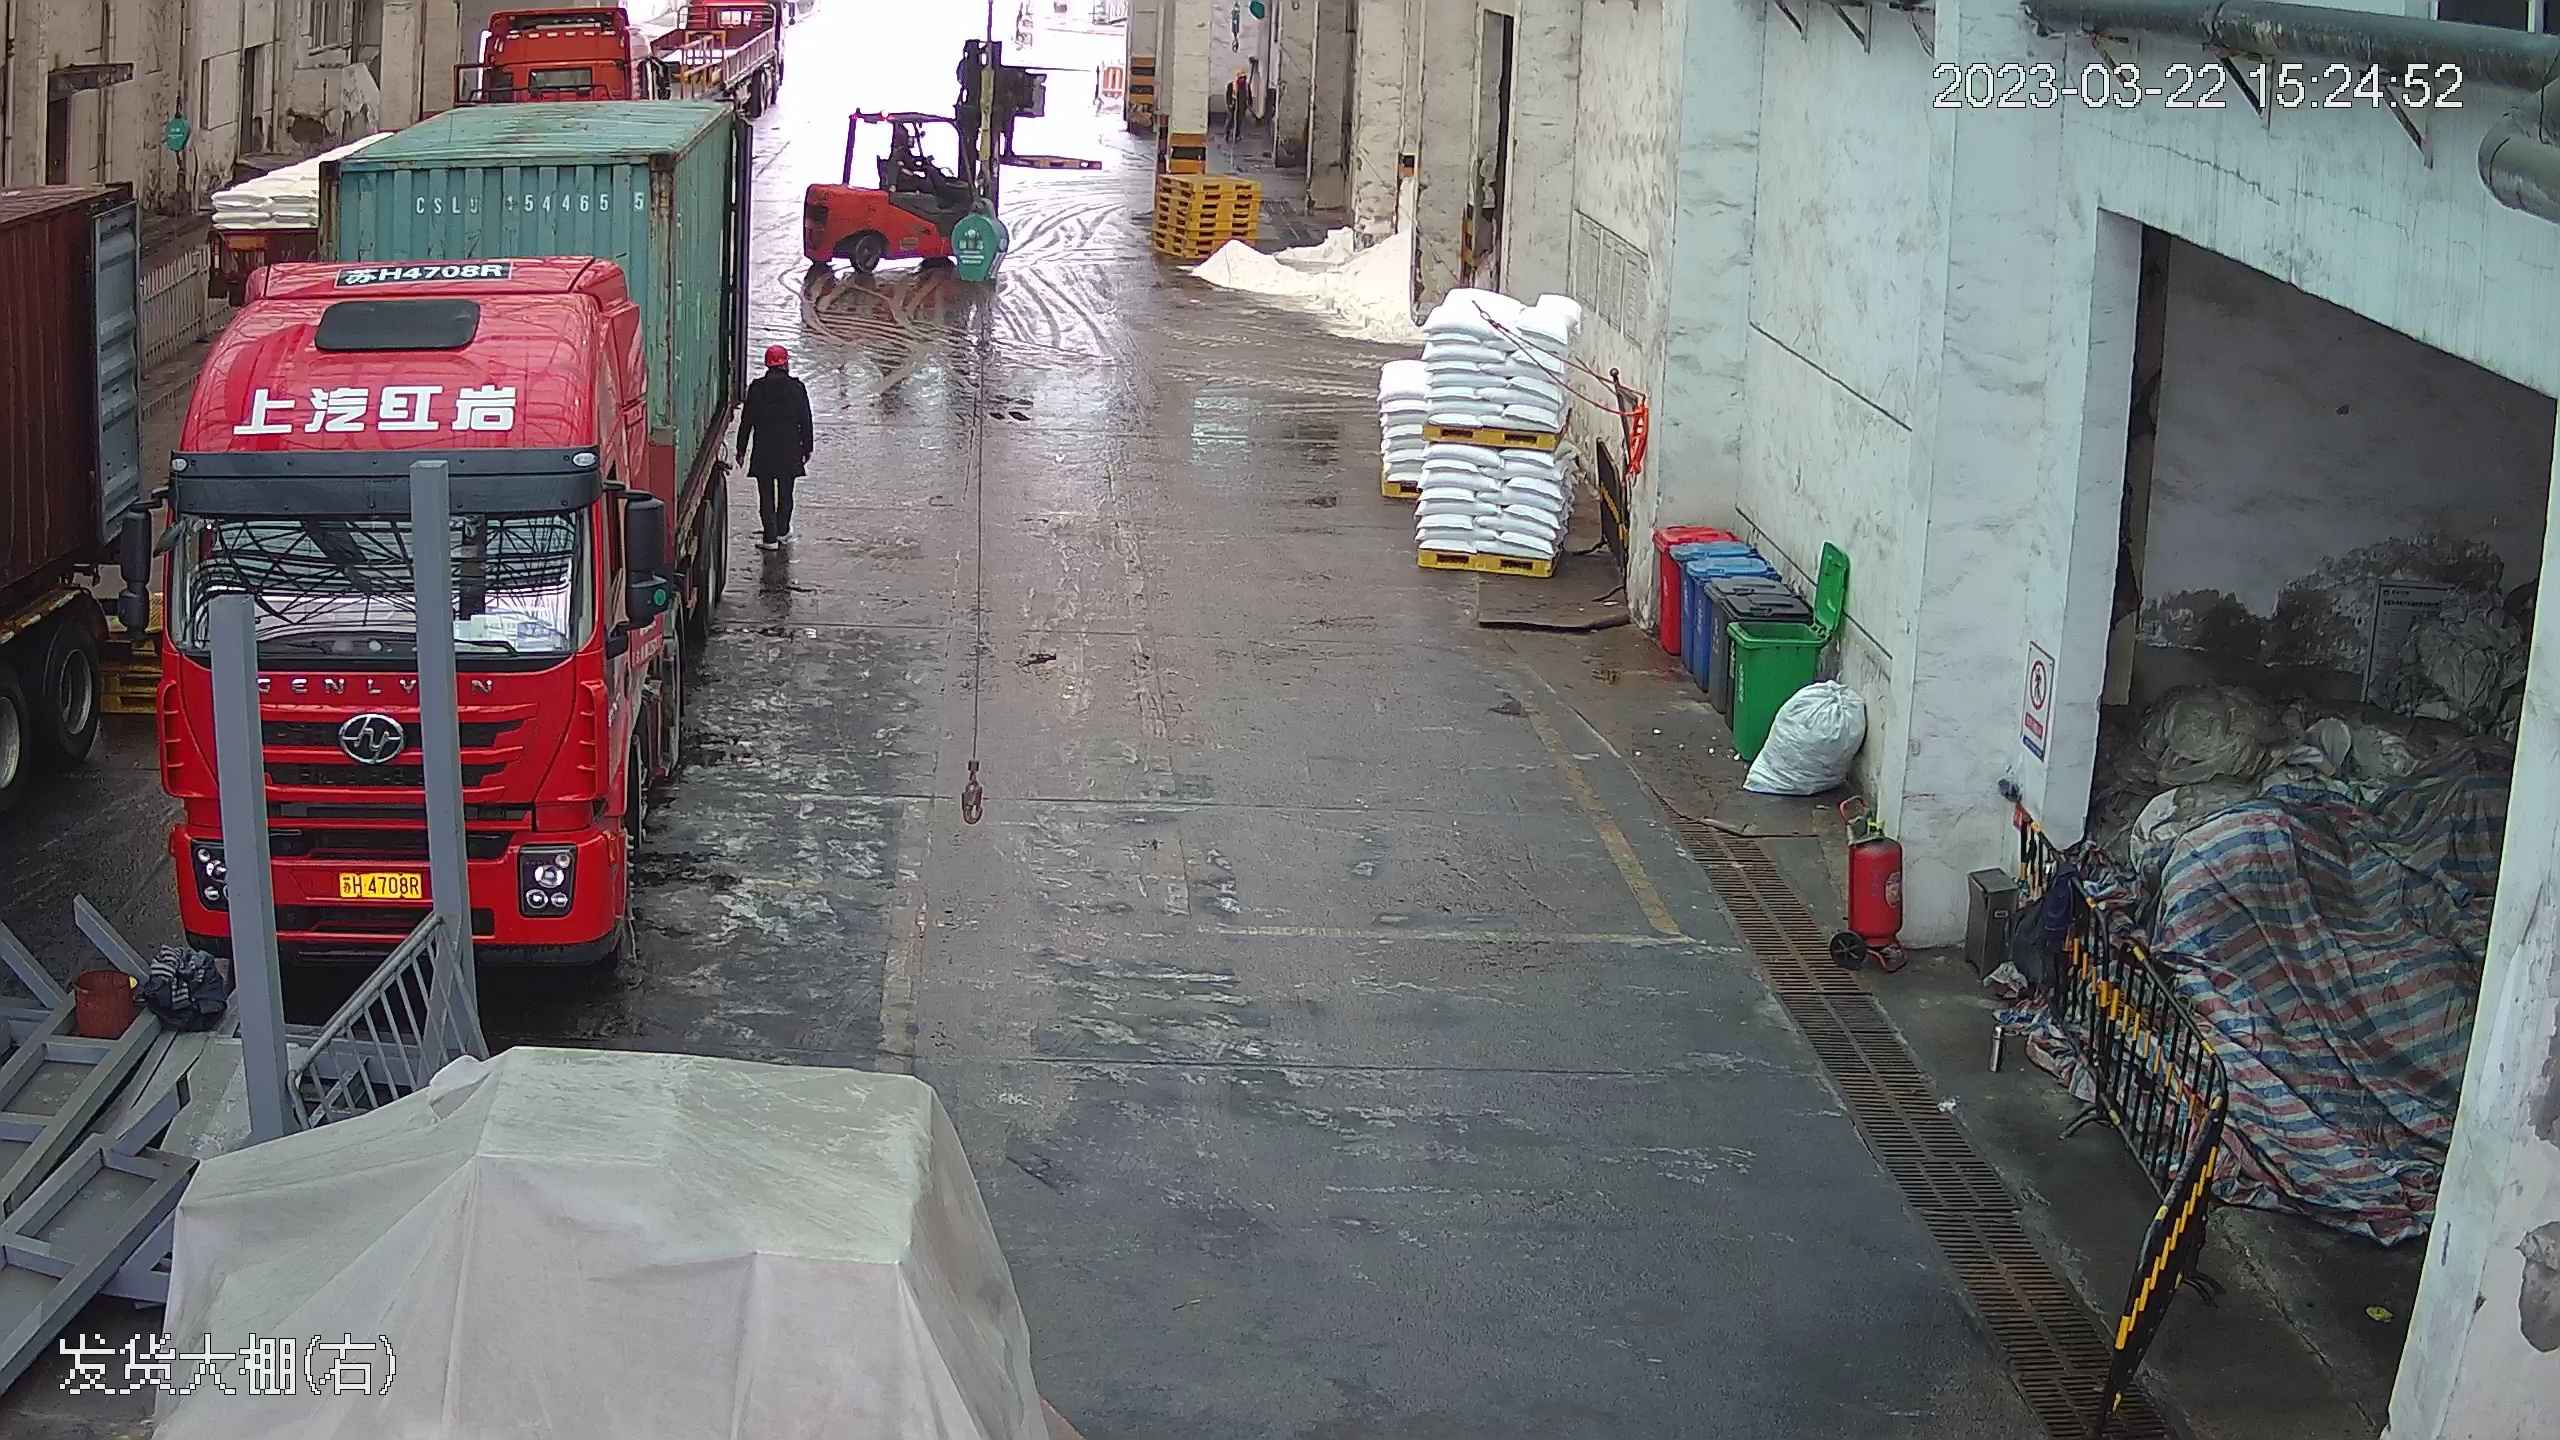head: (746, 337, 810, 402)
helmet: (762, 338, 791, 361)
people: (737, 333, 816, 590)
truck: (150, 20, 758, 973), (2, 127, 153, 1078)
